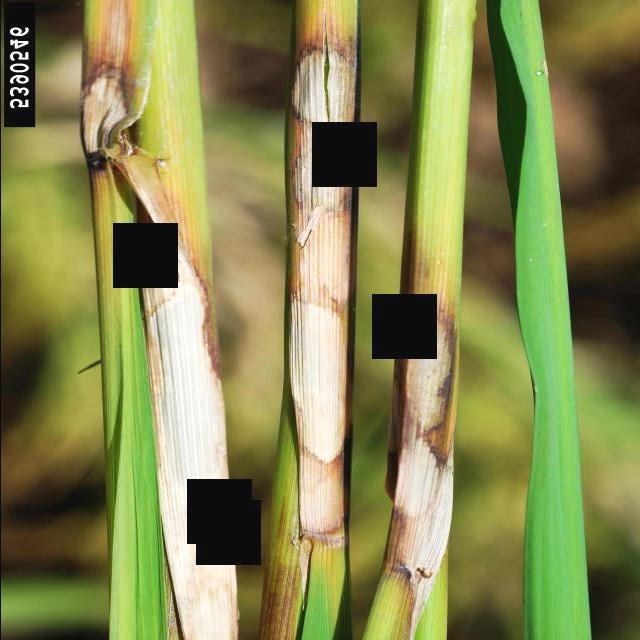Bacterial_Leaf_Blight: (133, 192, 238, 640), (288, 9, 362, 539), (384, 302, 454, 580), (77, 1, 133, 170)
